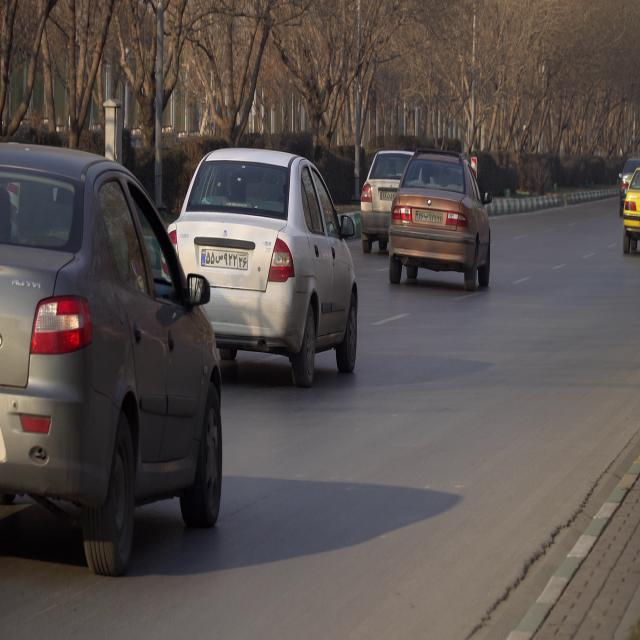car: (0, 142, 221, 574), (167, 148, 359, 380), (388, 154, 494, 298), (361, 152, 414, 252), (622, 165, 640, 255)
